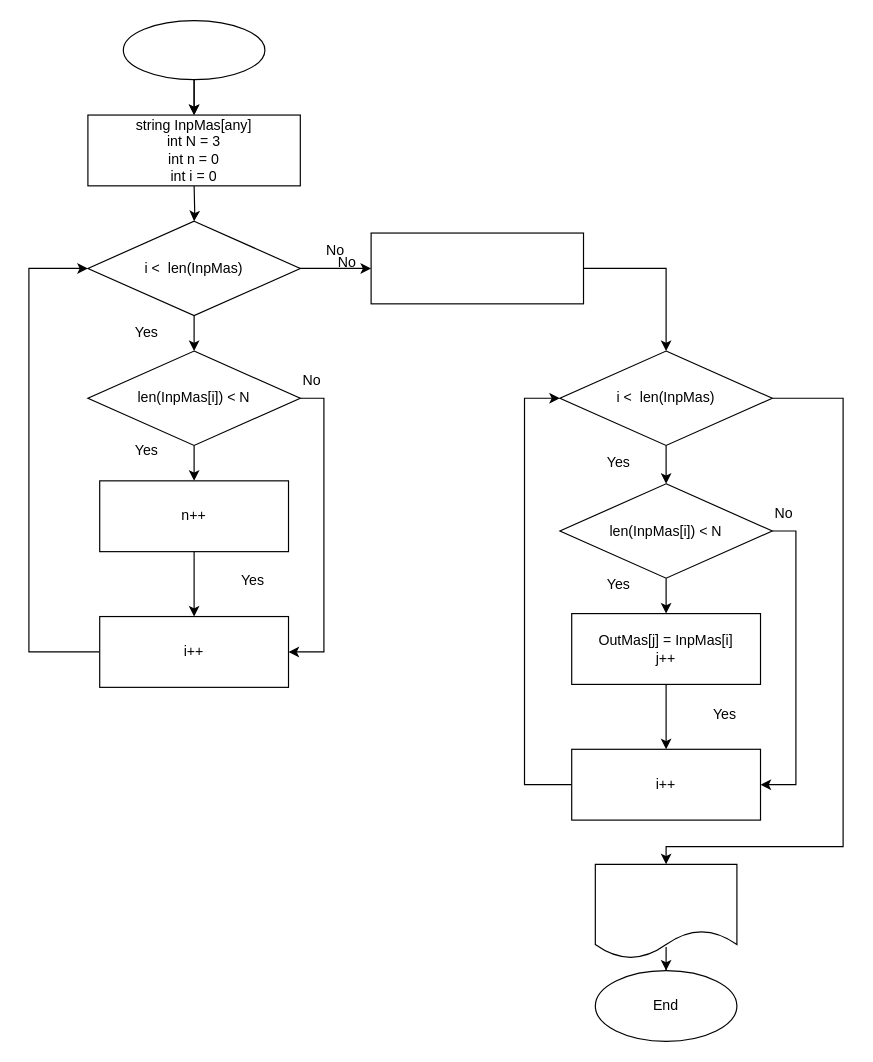
The diagram is 873 pixels wide and 1062 high, and some of its shapes have lost their labels. Here are the shapes that lost their labels. From the top down, the centre of each, then its label:
the point at 193,49: Старт
the point at 477,268: string OutMas[n] int j = 0 int i = 0
the point at 665,911: Возврат OutMas[n]
